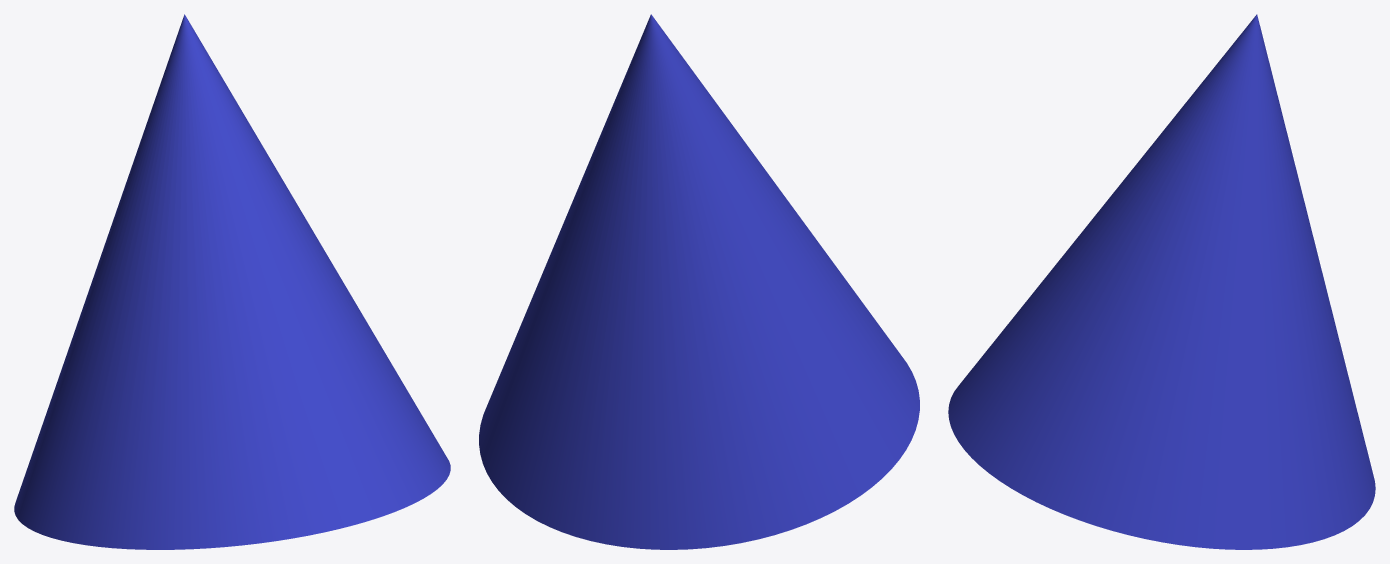
3 views of the same model, side by side, from view 1: azimuth 30°, elevation 25°; view 2: azimuth 150°, elevation 25°; view 3: azimuth 270°, elevation 25° (orthographic).
Parts seen in each view (by area): view 1: root; view 2: root; view 3: root.
Boxes of the visible parts, x1,y1,x2,y2 form: root: (14, 14, 450, 549); root: (479, 14, 919, 549); root: (948, 14, 1375, 549).
Bounding box in the file's own units: 0.1541 × 0.1852 × 0.1511.
